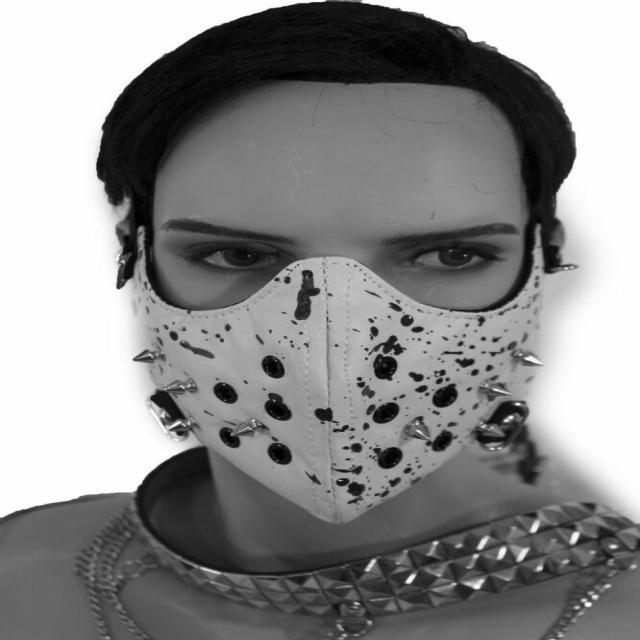fake: (134, 221, 539, 527)
real: (154, 84, 525, 529)
